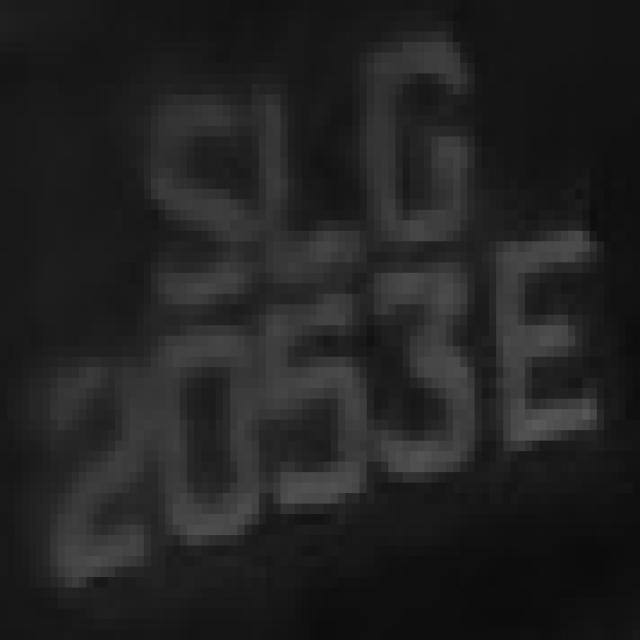0: (151, 315, 273, 577)
2: (15, 336, 166, 608)
3: (360, 230, 474, 524)
5: (244, 262, 388, 556)
E: (482, 199, 618, 493)
G: (352, 10, 489, 273)
L: (244, 32, 360, 304)
S: (115, 94, 273, 326)
